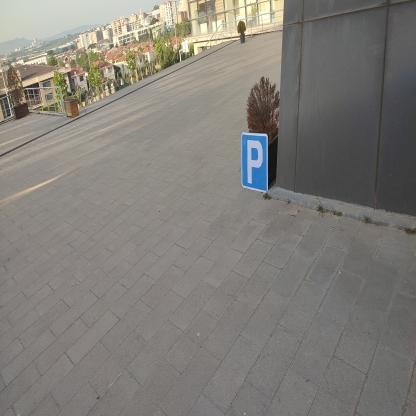parking: (240, 132, 269, 194)
